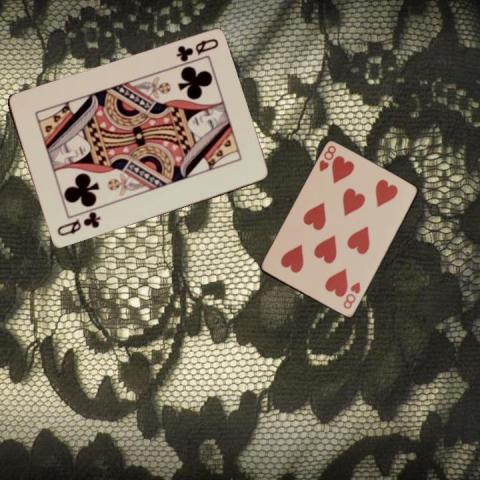8h: (340, 278, 362, 310), (316, 143, 337, 173)
Qc: (53, 210, 102, 238), (173, 36, 220, 63)
